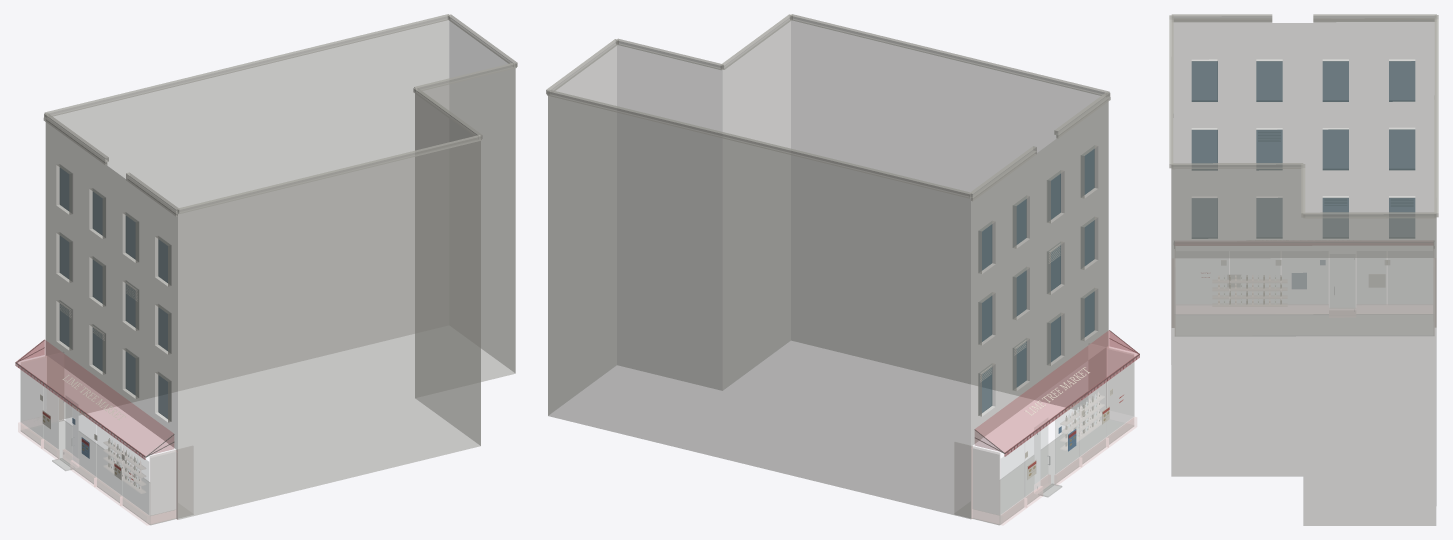
File: preserved-148-first.glb
3 renders of one model, left to right at view 1: azimuth 30°, elevation 25°; view 2: azimuth 150°, elevation 25°; view 3: azimuth 270°, elevation 25°, orthographic. The views are drawn at different scales.
Parts seen in each view (by area): view 1: paint, shop09, shopglass09; view 2: paint, shop09, shopglass09; view 3: paint, shopglass09, shop09.
Part boxes in pixels (x1=…): paint: x1=43, y1=14, x2=517, y2=519; shop09: x1=15, y1=284, x2=193, y2=525; shopglass09: x1=20, y1=358, x2=175, y2=514; paint: x1=546, y1=14, x2=1110, y2=519; shop09: x1=955, y1=245, x2=1139, y2=525; shopglass09: x1=973, y1=362, x2=1134, y2=514; paint: x1=1169, y1=14, x2=1438, y2=525; shopglass09: x1=1176, y1=258, x2=1432, y2=308; shop09: x1=1175, y1=260, x2=1433, y2=335.
Bounding box in the file's own units: 19.78 × 13.42 × 10.44.
